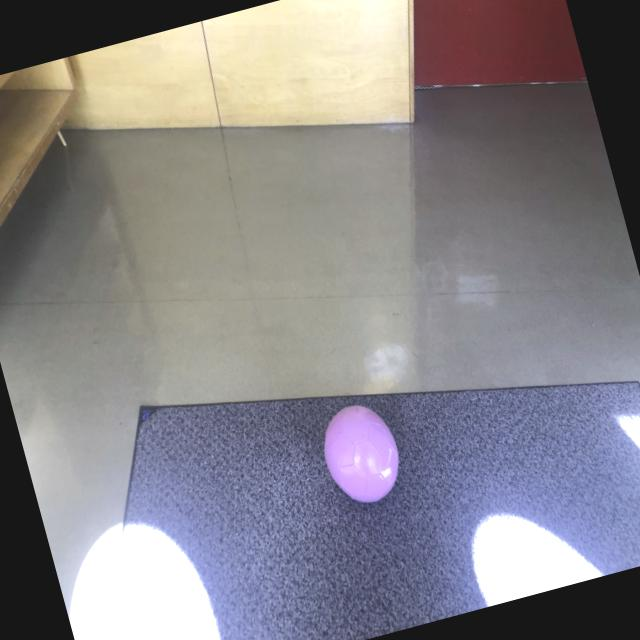purple_ball: (313, 395, 410, 512)
